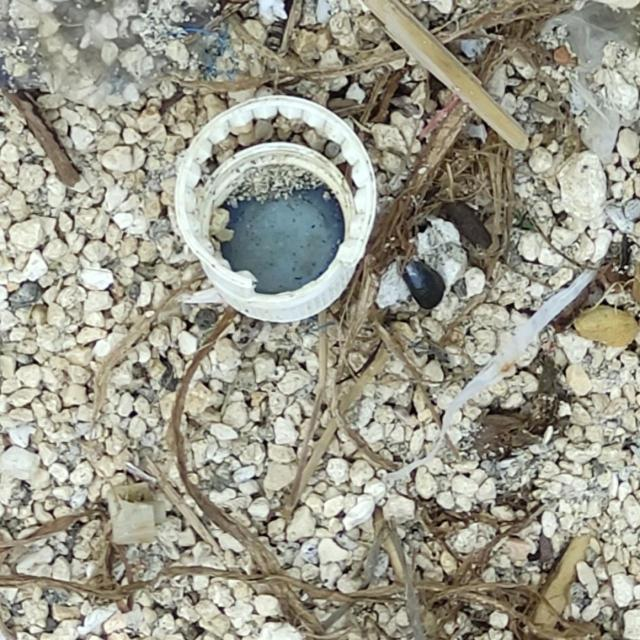litter: (173, 92, 378, 324)
